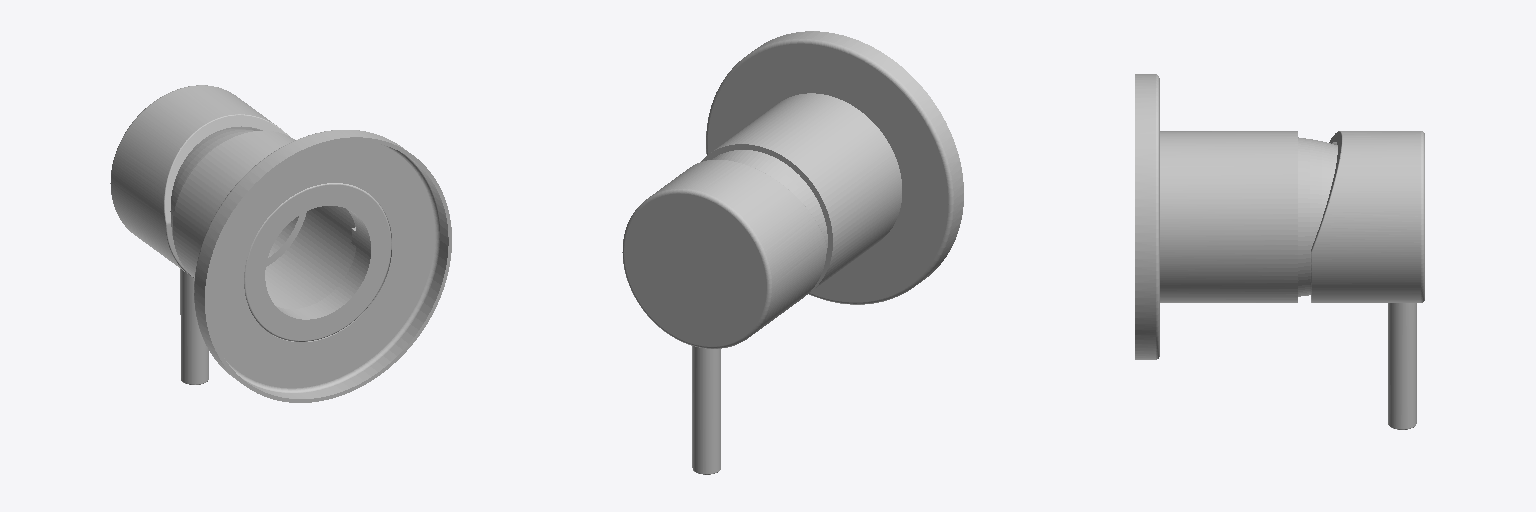
Rendered from MW03S-FIN.obj.
3 renders of one model, left to right at view 1: azimuth 30°, elevation 25°; view 2: azimuth 150°, elevation 25°; view 3: azimuth 270°, elevation 25°, orthographic.
Visible parts, largest first — view 1: MW03S-FIN_NEW; view 2: MW03S-FIN_NEW; view 3: MW03S-FIN_NEW.
Part boxes in pixels (bbox=[...]): MW03S-FIN_NEW: bbox=[110, 85, 451, 402]; MW03S-FIN_NEW: bbox=[622, 31, 963, 474]; MW03S-FIN_NEW: bbox=[1135, 74, 1424, 429].
Size of the model in its own units: 69.99 by 91 by 71.